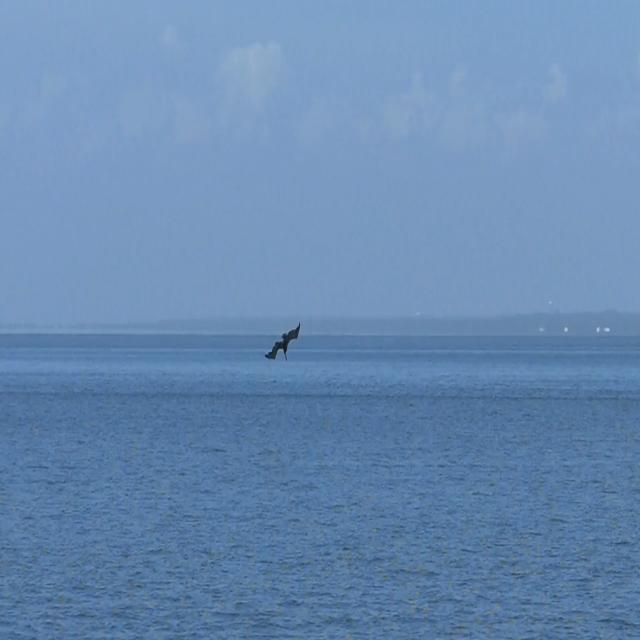bird: (261, 317, 307, 369)
